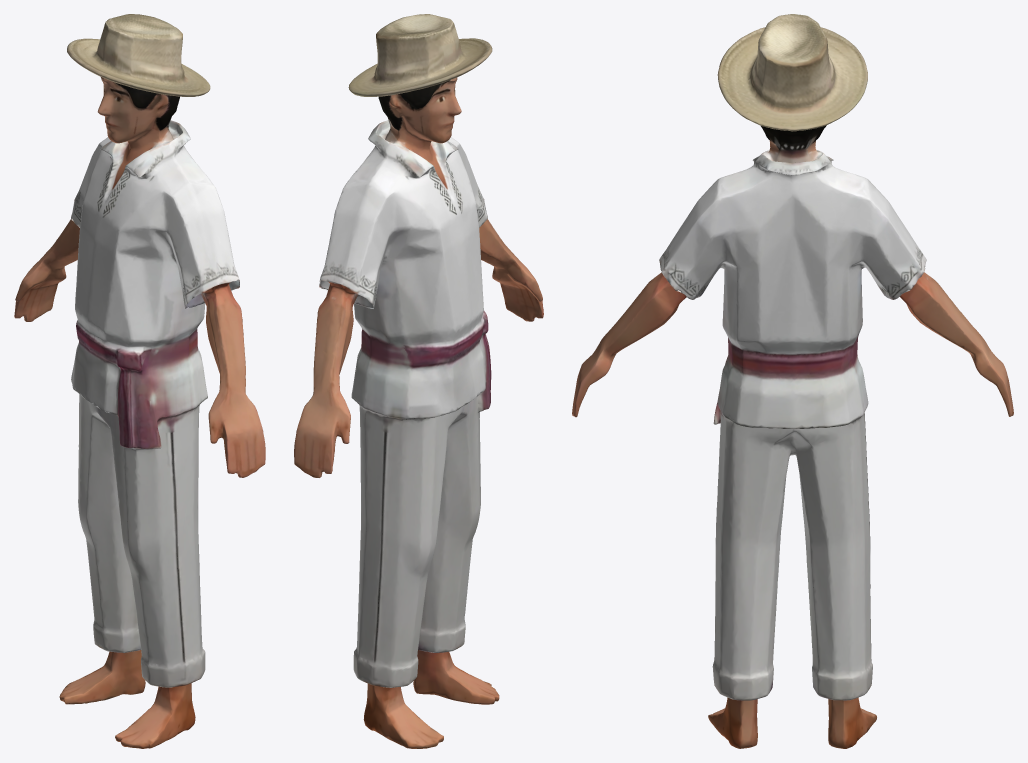
Rendered from aldeano.obj.
3 renders of one model, left to right at view 1: azimuth 30°, elevation 25°; view 2: azimuth 150°, elevation 25°; view 3: azimuth 270°, elevation 25°, orthographic. The views are drawn at different scales.
Parts seen in each view (by area): view 1: Torso_and_Clothing, Left_Leg_and_Foot, Left_Arm, Right_Leg_and_Foot, Head_and_Hat, Right_Arm; view 2: Torso_and_Clothing, Right_Leg_and_Foot, Right_Arm, Left_Leg_and_Foot, Head_and_Hat, Left_Arm; view 3: Torso_and_Clothing, Left_Leg_and_Foot, Right_Leg_and_Foot, Head_and_Hat, Right_Arm, Left_Arm.
Part boxes in pixels (x1=…): Torso_and_Clothing: x1=71, y1=120, x2=210, y2=463; Left_Leg_and_Foot: x1=113, y1=449, x2=205, y2=748; Left_Arm: x1=167, y1=178, x2=265, y2=477; Right_Leg_and_Foot: x1=59, y1=422, x2=145, y2=704; Head_and_Hat: x1=67, y1=14, x2=210, y2=143; Right_Arm: x1=14, y1=137, x2=108, y2=321; Torso_and_Clothing: x1=349, y1=120, x2=491, y2=463; Right_Leg_and_Foot: x1=353, y1=449, x2=445, y2=748; Right_Arm: x1=294, y1=177, x2=392, y2=477; Left_Leg_and_Foot: x1=413, y1=422, x2=499, y2=704; Head_and_Hat: x1=348, y1=14, x2=492, y2=143; Left_Arm: x1=450, y1=137, x2=543, y2=321; Torso_and_Clothing: x1=705, y1=150, x2=878, y2=468; Left_Leg_and_Foot: x1=708, y1=452, x2=788, y2=748; Right_Leg_and_Foot: x1=797, y1=452, x2=876, y2=748; Head_and_Hat: x1=717, y1=14, x2=867, y2=156; Right_Arm: x1=857, y1=175, x2=1013, y2=416; Left_Arm: x1=572, y1=176, x2=726, y2=417.
Size of the model in its own units: 0.0375 by 0.2026 by 0.1145.
